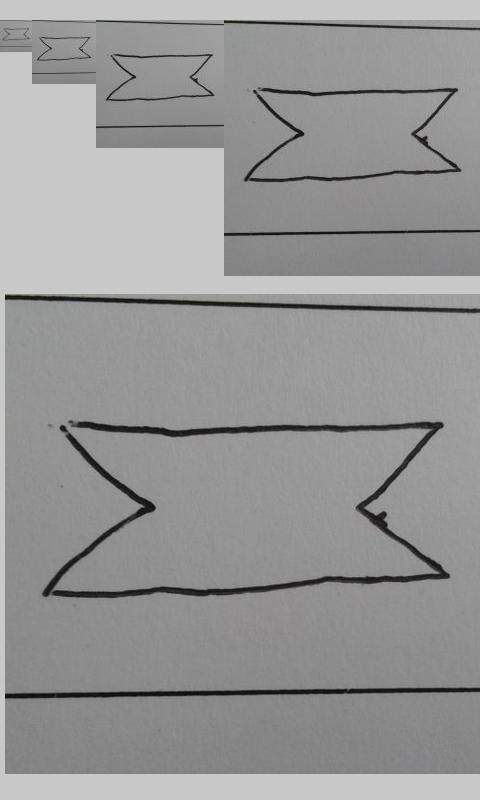edit_text: (45, 419, 448, 598), (247, 87, 460, 183), (106, 53, 215, 101), (36, 37, 92, 61), (2, 27, 29, 41)
